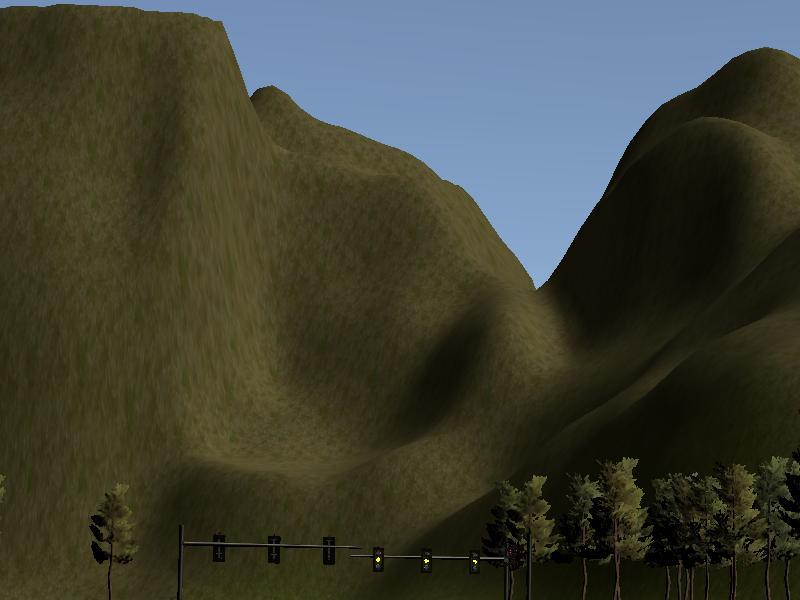Yellow: (420, 548, 432, 576), (372, 546, 384, 573), (468, 550, 480, 576)
